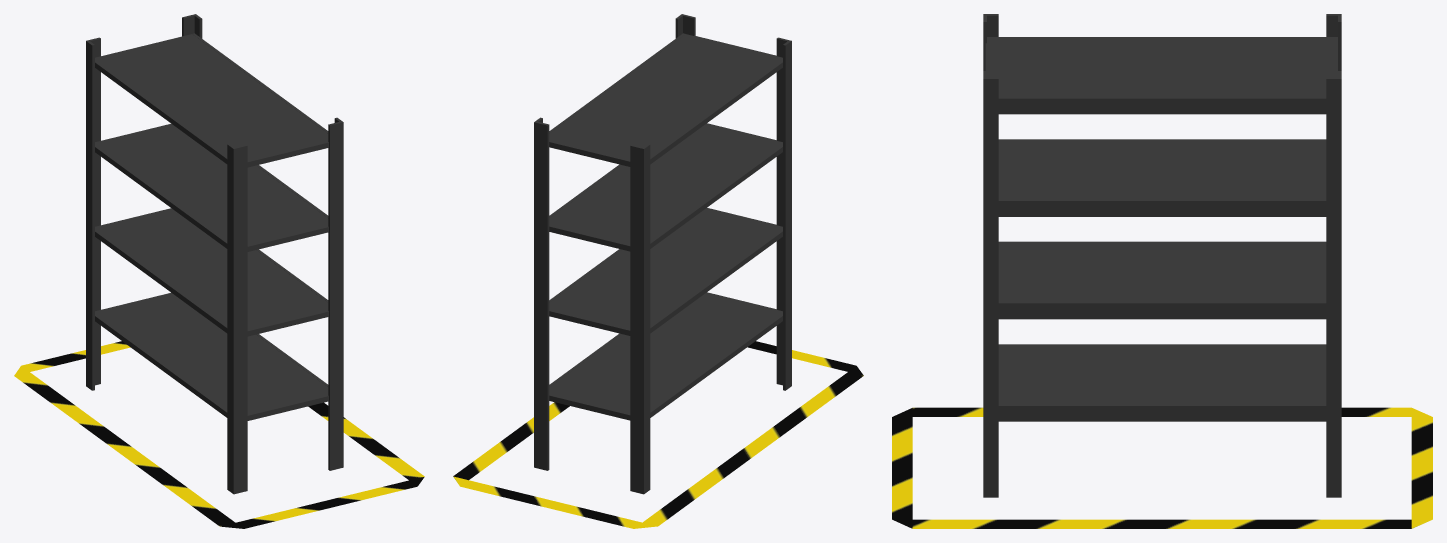
File: shelf_-_free_background_prop.glb
3 renders of one model, left to right at view 1: azimuth 30°, elevation 25°; view 2: azimuth 150°, elevation 25°; view 3: azimuth 270°, elevation 25°, orthographic. The views are drawn at different scales.
Parts seen in each view (by area): view 1: shelves, legs, Tape, backing; view 2: shelves, legs, Tape, backing; view 3: shelves, backing, legs, Tape.
Part boxes in pixels (bbox=[...]): shelves: bbox=[95, 34, 328, 420]; legs: bbox=[86, 14, 343, 494]; Tape: bbox=[14, 341, 424, 528]; backing: bbox=[192, 33, 328, 386]; shelves: bbox=[549, 34, 782, 420]; legs: bbox=[534, 14, 791, 494]; Tape: bbox=[453, 341, 863, 528]; backing: bbox=[549, 33, 685, 386]; shelves: bbox=[985, 37, 1337, 404]; backing: bbox=[998, 97, 1326, 421]; legs: bbox=[983, 14, 1341, 497]; Tape: bbox=[892, 407, 1432, 528].
Bounding box in the file's own units: 0.9145 × 1.47 × 1.72.
2 materials, 1 textured.
